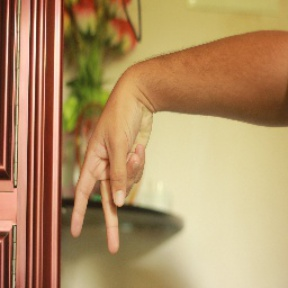Y: (70, 86, 154, 255)
